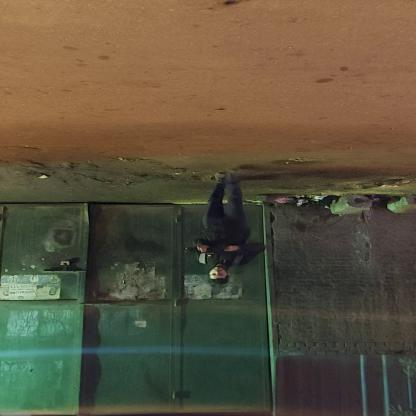long weapon: (172, 238, 278, 258)
